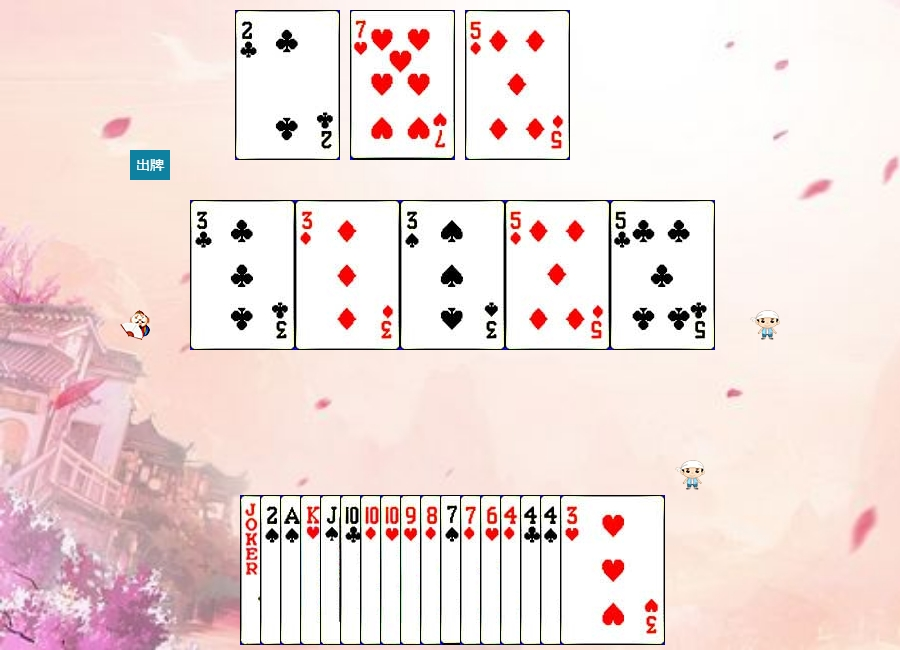10~1: (360, 495, 465, 645)
10~2: (340, 495, 445, 645)
10~3: (380, 495, 485, 645)
11~4: (320, 495, 425, 645)
13~3: (300, 495, 405, 645)
14~4: (280, 495, 385, 645)
15~2: (235, 10, 340, 160)
15~4: (260, 495, 365, 645)
18~4: (240, 495, 345, 645)
3~1: (295, 200, 400, 350)
3~2: (190, 200, 295, 350)
3~3: (560, 495, 665, 645)
3~4: (400, 200, 505, 350)
4~1: (500, 495, 605, 645)
4~2: (520, 495, 625, 645)
4~4: (540, 495, 645, 645)
5~1: (465, 10, 570, 160), (505, 200, 610, 350)
5~2: (610, 200, 715, 350)
6~3: (480, 495, 585, 645)
7~1: (460, 495, 565, 645)
7~3: (350, 10, 455, 160)
7~4: (440, 495, 545, 645)
8~1: (420, 495, 525, 645)
9~3: (400, 495, 505, 645)
